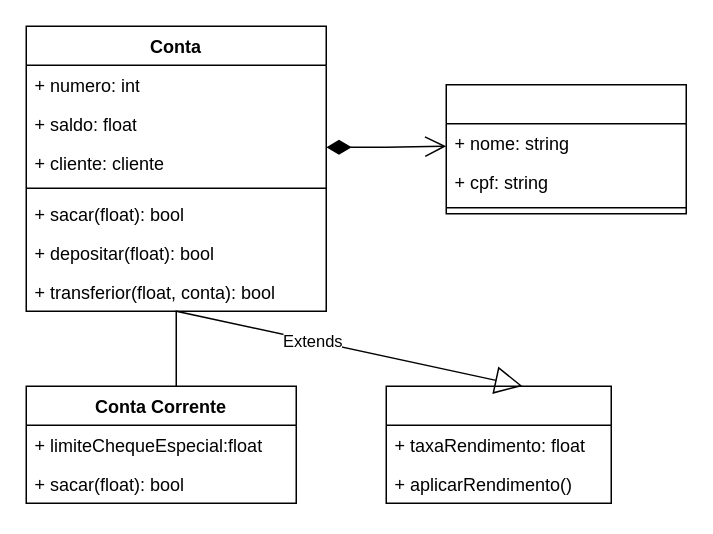
Image size: 713x534. Some labels were removed from this diagram. Here are the shapes that lost their labels. From the top down, the box of each, then its label:
(445, 83, 686, 214): Cliente
(385, 385, 611, 503): Conta Poupança
